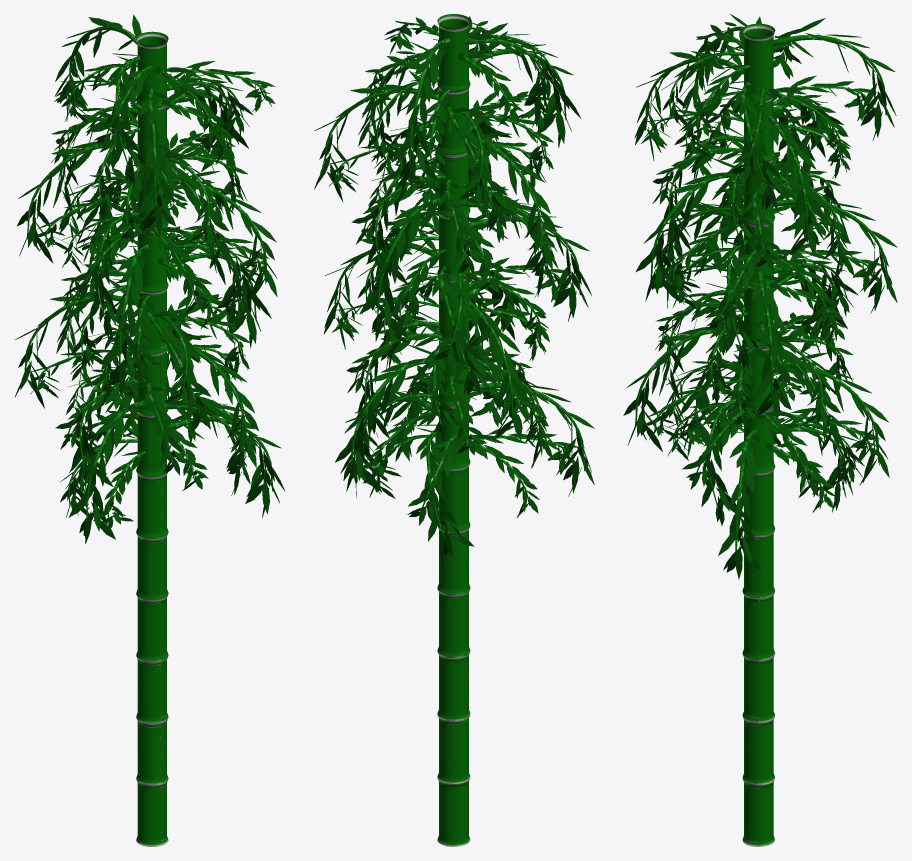
Rendered from take.fbx.
3 renders of one model, left to right at view 1: azimuth 30°, elevation 25°; view 2: azimuth 150°, elevation 25°; view 3: azimuth 270°, elevation 25°, orthographic. The views are drawn at different scales.
Visible parts, largest first — view 1: 竹.001; view 2: 竹.001; view 3: 竹.001.
Part boxes in pixels (x1=…): 竹.001: x1=15, y1=14, x2=285, y2=846; 竹.001: x1=314, y1=14, x2=594, y2=846; 竹.001: x1=623, y1=14, x2=897, y2=846.
Bounding box in the file's own units: 274 × 903 × 276.
1 material, 1 textured.
